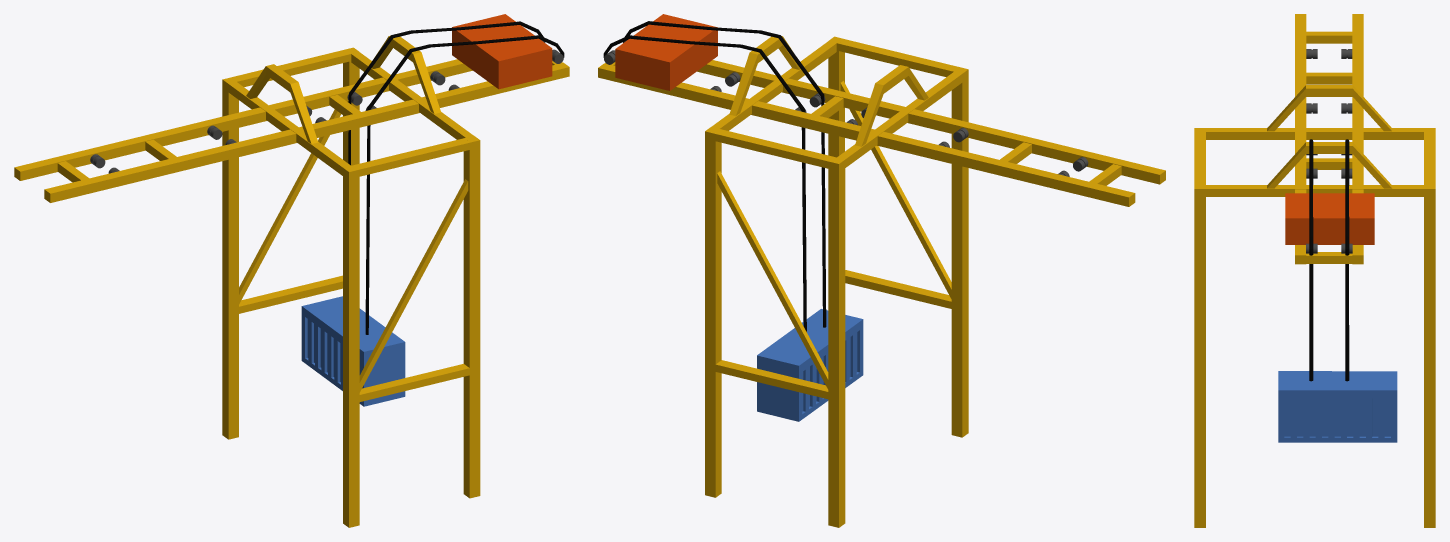
The model's file is BigCraneUnloading.glb.
3 views of the same model, side by side, from view 1: azimuth 30°, elevation 25°; view 2: azimuth 150°, elevation 25°; view 3: azimuth 270°, elevation 25° (orthographic). The views are drawn at different scales.
Parts seen in each view (by area): view 1: Cube.009; view 2: Cube.009; view 3: Cube.009.
Part boxes in pixels (left/top/right/bottom): Cube.009: left=14, top=14, right=569, bottom=527; Cube.009: left=598, top=14, right=1165, bottom=527; Cube.009: left=1194, top=14, right=1435, bottom=527.
Bounding box in the file's own units: 31.71 × 23.45 × 13.32.
